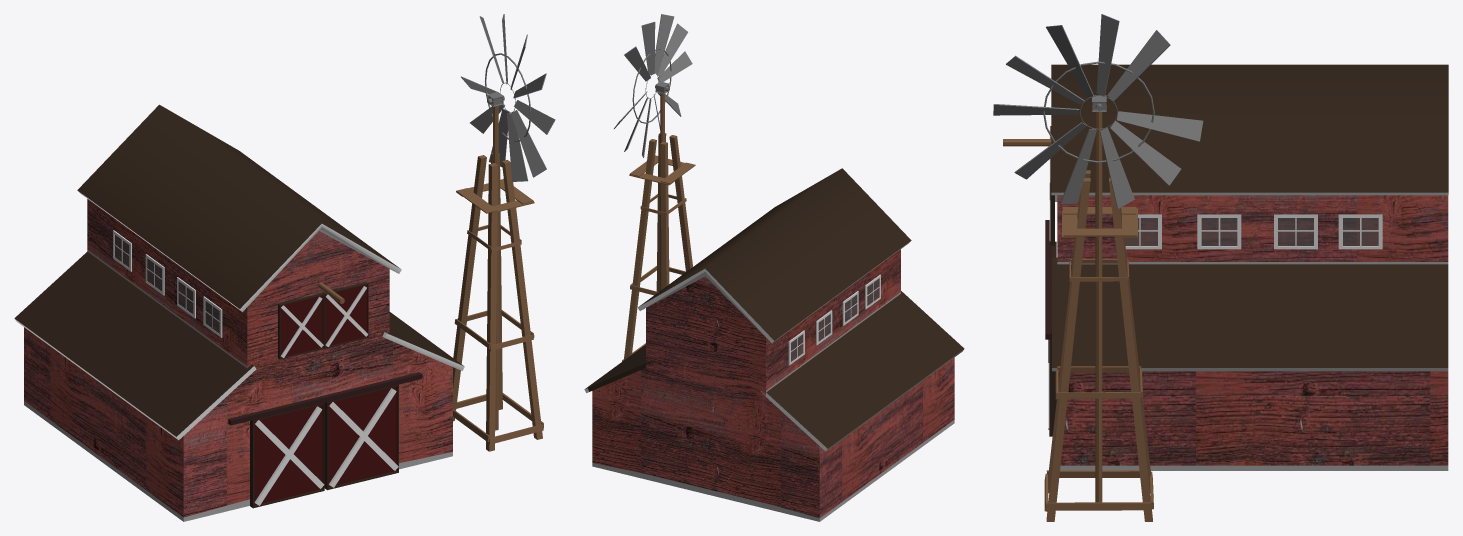
File: SM_T_Barn.fbx
3 views of the same model, side by side, from view 1: azimuth 30°, elevation 25°; view 2: azimuth 150°, elevation 25°; view 3: azimuth 270°, elevation 25° (orthographic). The views are drawn at different scales.
Parts seen in each view (by area): view 1: pCube7, polySurface170, pCube14, pCube57, pCube61, pCube62, pCube20, pCube12, pCube58, pCube56, pCube43, pCube44; view 2: pCube7, polySurface170, pCube20, pCube51, pCube52, pCube50; view 3: pCube7, polySurface170, pCube63, pCube47, pCube46, pCube49, pCube45, pCube50, pCube44, pCube51, pCube43, pCube52 (+4 smaller).
Part boxes in pixels (left/top/right/bottom): pCube7: left=14, top=104, right=464, bottom=521; polySurface170: left=453, top=106, right=543, bottom=451; pCube14: left=250, top=403, right=324, bottom=508; pCube57: left=324, top=384, right=398, bottom=490; pCube61: left=278, top=293, right=323, bottom=359; pCube62: left=322, top=282, right=368, bottom=348; pCube20: left=113, top=230, right=222, bottom=337; pCube12: left=228, top=372, right=421, bottom=425; pCube58: left=329, top=388, right=398, bottom=487; pCube56: left=254, top=406, right=324, bottom=505; pCube43: left=511, top=110, right=546, bottom=177; pCube44: left=506, top=113, right=528, bottom=181; pCube7: left=584, top=168, right=964, bottom=521; polySurface170: left=622, top=93, right=695, bottom=361; pCube20: left=788, top=274, right=880, bottom=365; pCube51: left=654, top=14, right=674, bottom=73; pCube52: left=656, top=23, right=687, bottom=77; pCube50: left=641, top=21, right=655, bottom=75; pCube7: left=1051, top=64, right=1448, bottom=470; polySurface170: left=1044, top=112, right=1153, bottom=521; pCube63: left=1124, top=214, right=1382, bottom=249; pCube47: left=1117, top=111, right=1203, bottom=141; pCube46: left=1110, top=120, right=1181, bottom=185; pCube49: left=1107, top=30, right=1170, bottom=101; pCube45: left=1099, top=127, right=1134, bottom=208; pCube50: left=1096, top=14, right=1119, bottom=96; pCube44: left=1060, top=128, right=1096, bottom=204; pCube51: left=1046, top=25, right=1093, bottom=96; pCube43: left=1014, top=122, right=1086, bottom=179; pCube52: left=1006, top=55, right=1084, bottom=104.
Size of the model in its own units: 765 by 813 by 675.
Materials: 14 (2 with a texture image).
